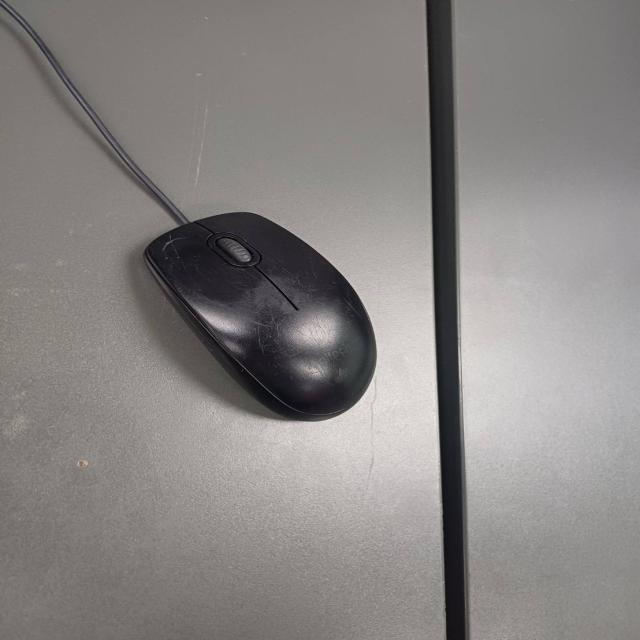mouse: (129, 203, 399, 428)
